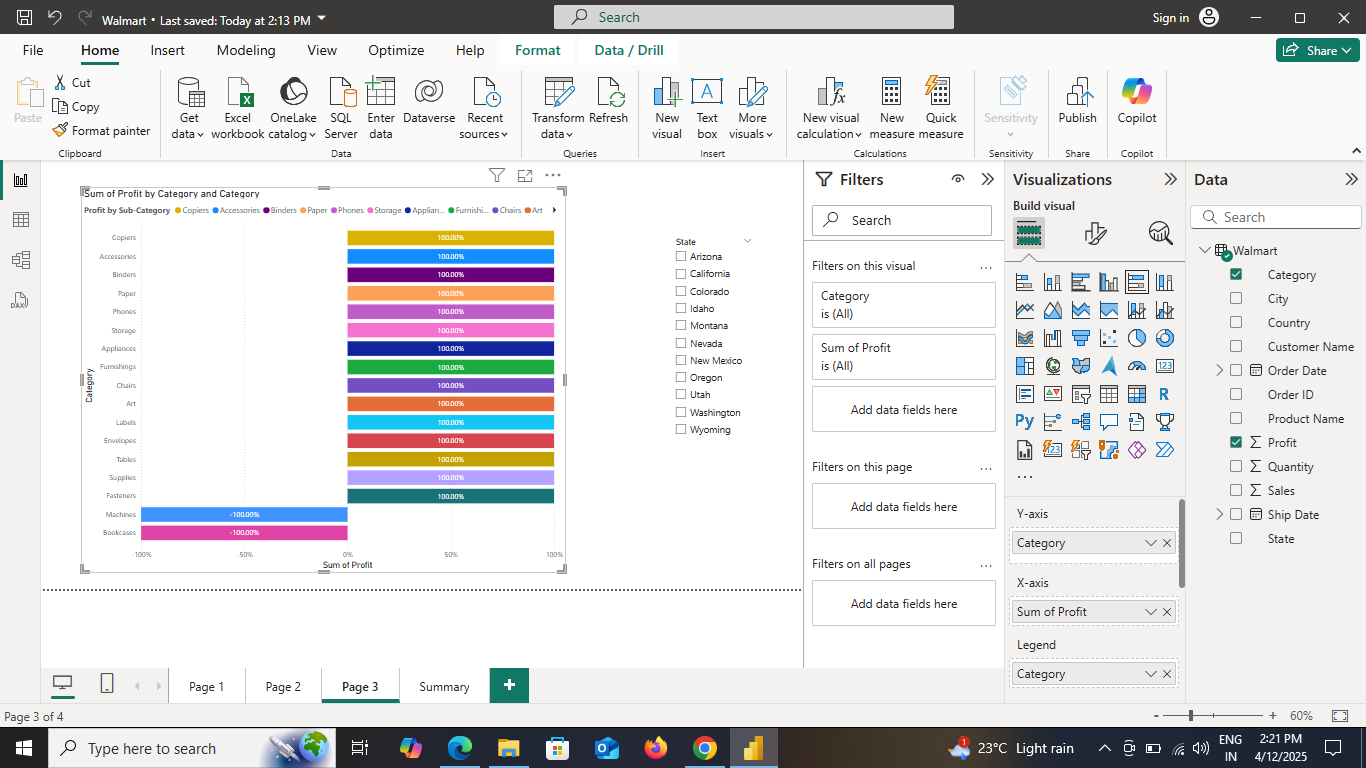

The page's visual inventory and layout, read from the dashboard file:
{"tool":"powerbi","page":{"name":"Page 3","canvas":[1280,720],"ordinal":2},"visuals":[{"type":"hundredPercentStackedBarChart","fields":{"Category":["Walmart.Category"],"Y":["Sum(Walmart.Profit)"],"Series":["Walmart.Category"]},"box":[67.2,45.4,814.7,648.4],"z":0},{"type":"slicer","fields":{"Values":["Walmart.State"]},"box":[1053.2,124.3,152.9,460.3],"z":1}]}

Visuals, with their boxes on the page's 1280x720 design canvas (x1, y1, x2, y2). These are canvas units, not pixel positions in the 1366x768 screenshot, which may show the page scaled, cropped or inside an application window:
hundredPercentStackedBarChart - Walmart.Category x Sum(Walmart.Profit): (67,45,882,694)
slicer - Walmart.State: (1053,124,1206,585)
